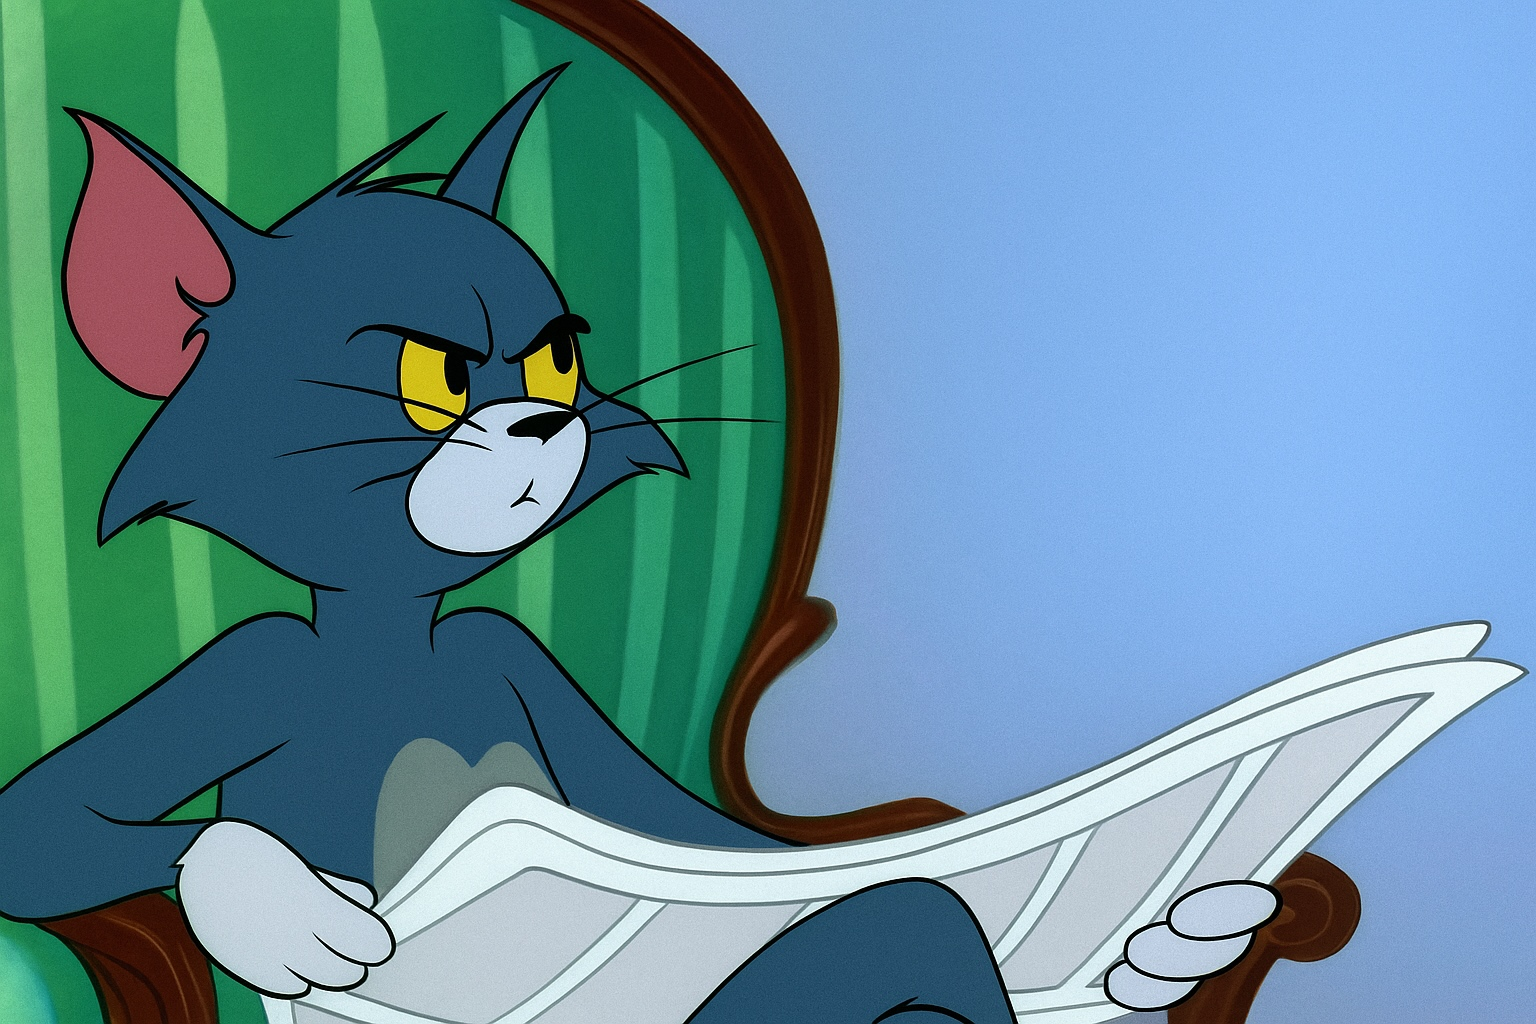person: (24, 53, 836, 657)
